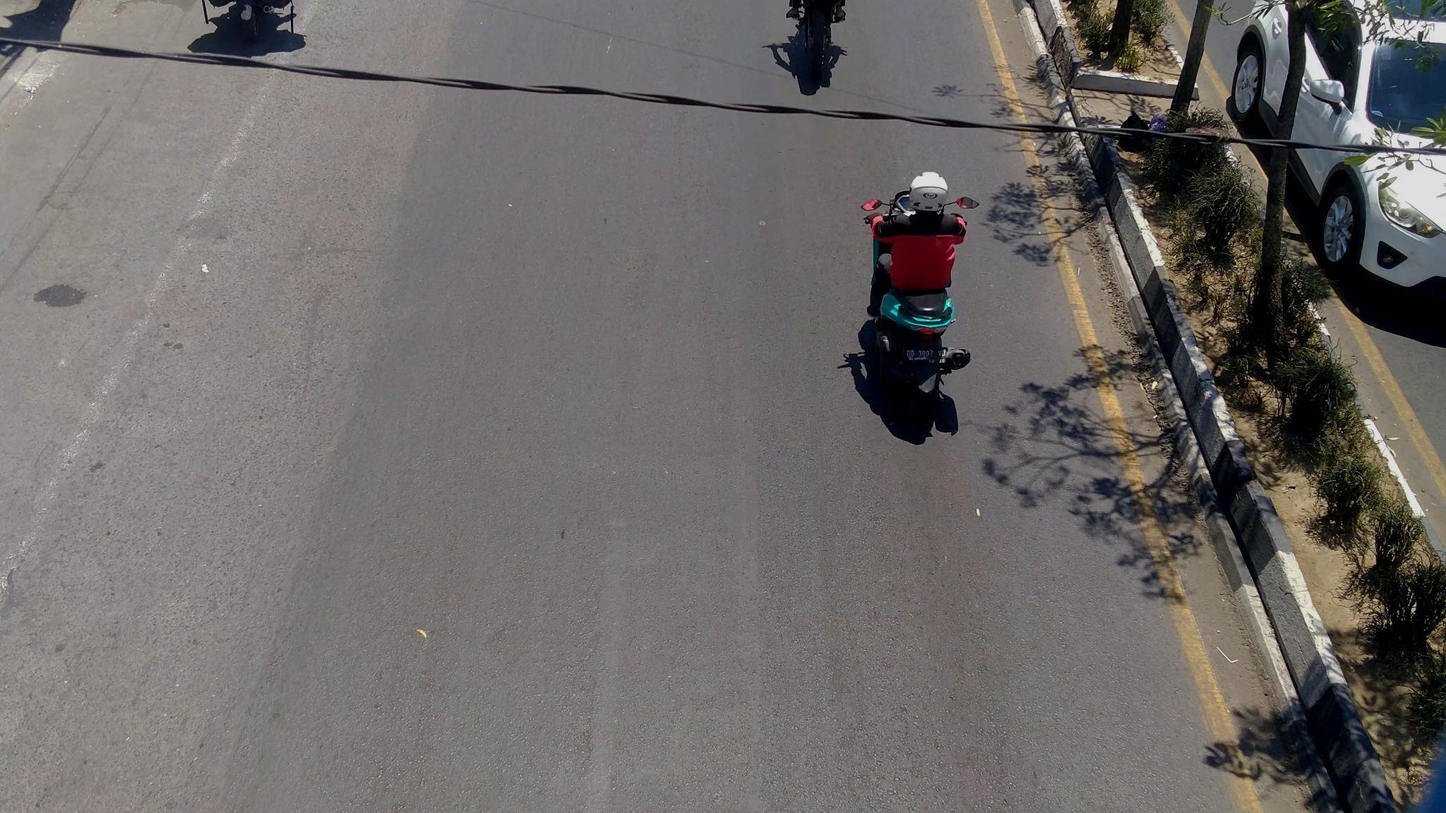Helmet: (902, 166, 956, 221)
bike: (861, 195, 981, 411)
number-plate: (904, 346, 941, 366)
rider: (865, 172, 970, 312)
